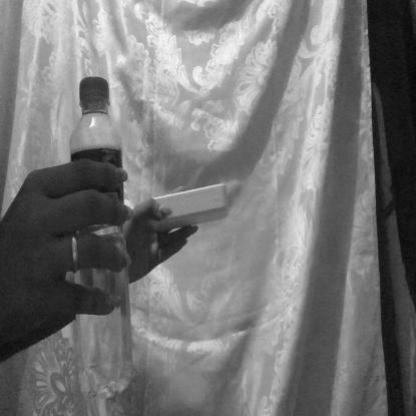Plastic Bottle: (67, 73, 137, 401)
